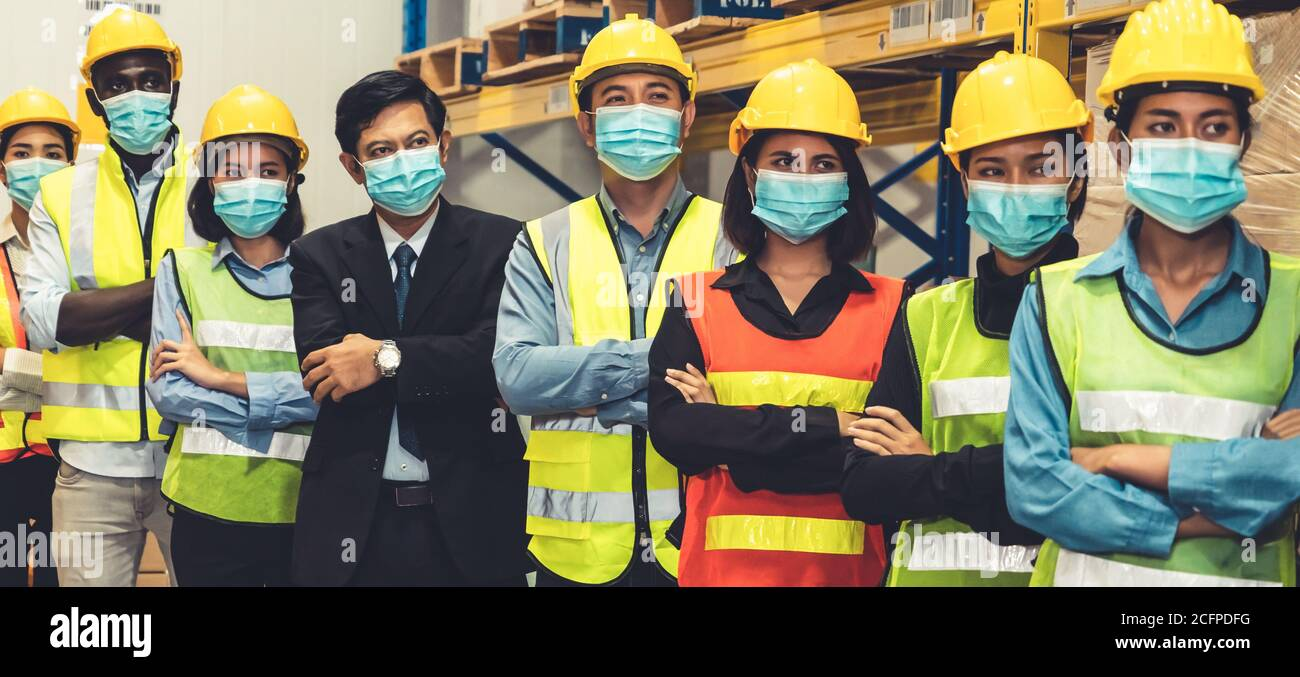person: (1004, 3, 1300, 590), (493, 21, 747, 586), (648, 57, 910, 585), (837, 51, 1084, 576), (289, 70, 535, 588), (26, 10, 200, 583), (143, 85, 339, 588), (1, 89, 79, 587)
